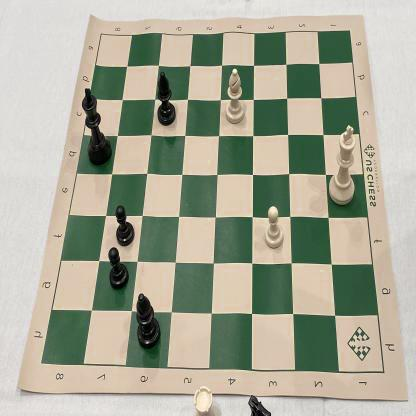black-bishop: (133, 287, 164, 356), (154, 67, 178, 129)
black-king: (78, 83, 114, 171)
black-pawn: (105, 245, 131, 293), (112, 203, 138, 250)
white-bishop: (220, 63, 250, 130)
white-king: (326, 119, 358, 211)
white-pawn: (262, 200, 286, 251)
